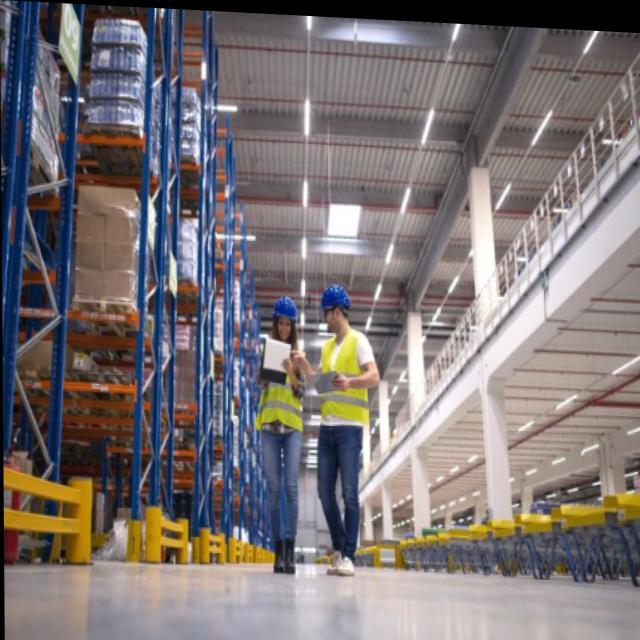boots: (267, 534, 299, 578)
helmet: (318, 283, 351, 329), (271, 292, 300, 342)
vest: (316, 326, 373, 431), (254, 339, 309, 436)
